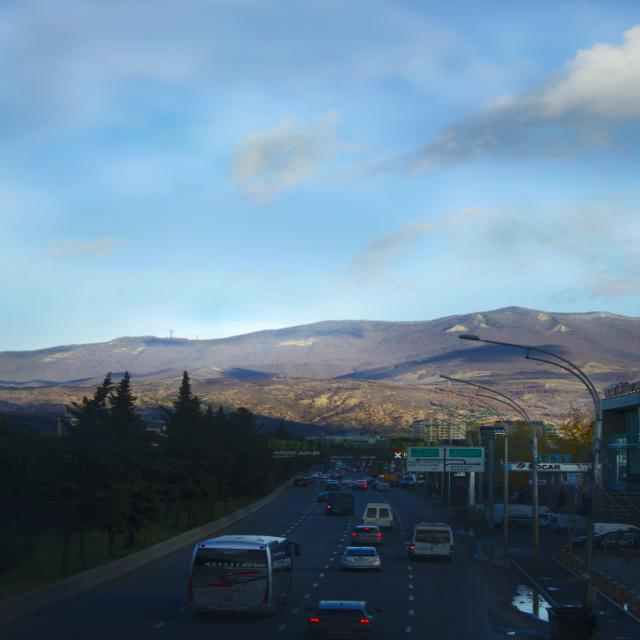bus: (177, 532, 298, 620)
